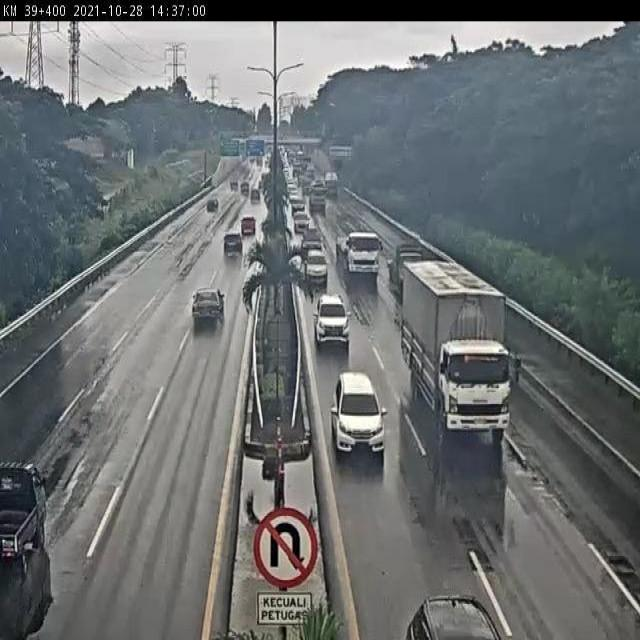big truck: (419, 291, 523, 441), (342, 223, 375, 281)
car: (333, 352, 382, 456), (181, 289, 230, 339), (313, 280, 344, 341), (296, 237, 331, 276), (213, 229, 243, 272)
